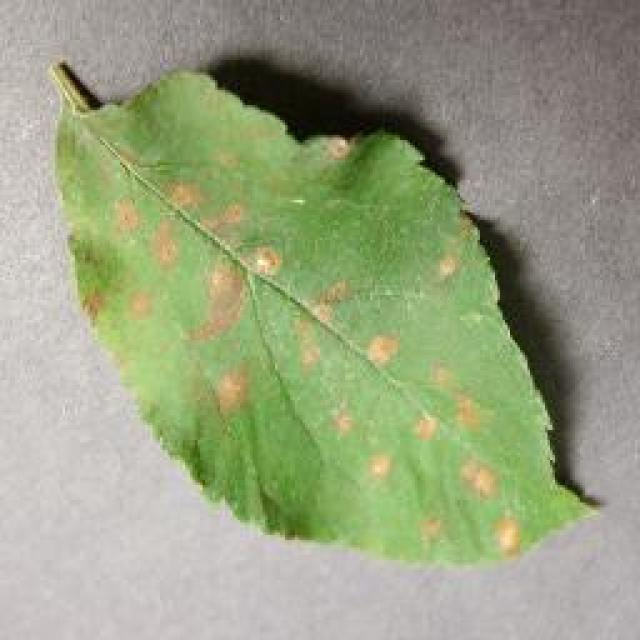apple cedar apple rust: (45, 55, 600, 567)
